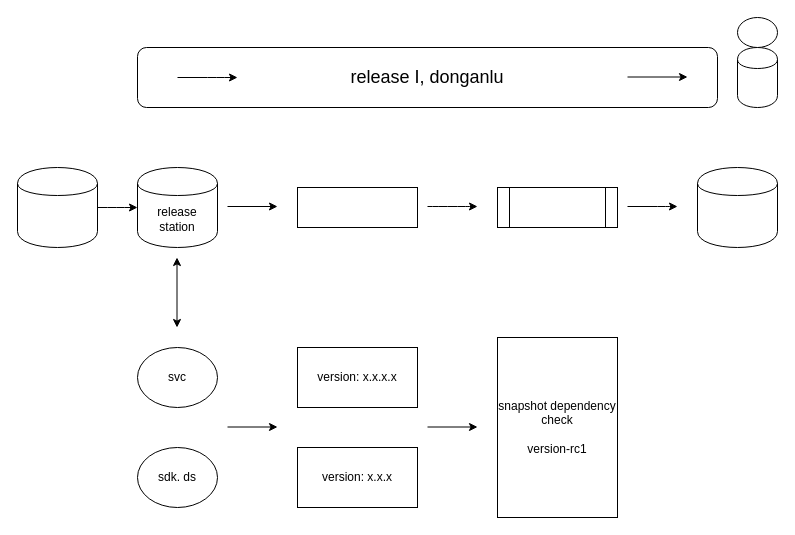
The diagram is 795 pixels wide and 535 high, and some of its shapes have lost their labels. Each missing label, with the centre of its shape:
"CI" goes at point 557,207.
"master" goes at point 57,207.
"nexus" goes at point 737,207.
"version update" goes at point 357,207.
